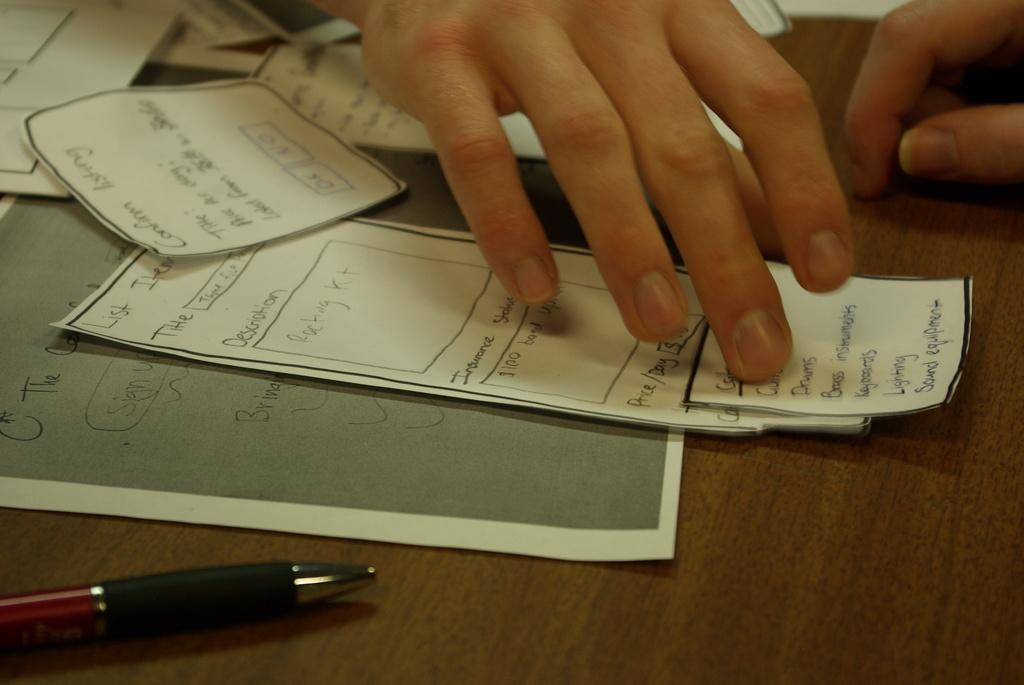pen: (0, 552, 380, 653)
